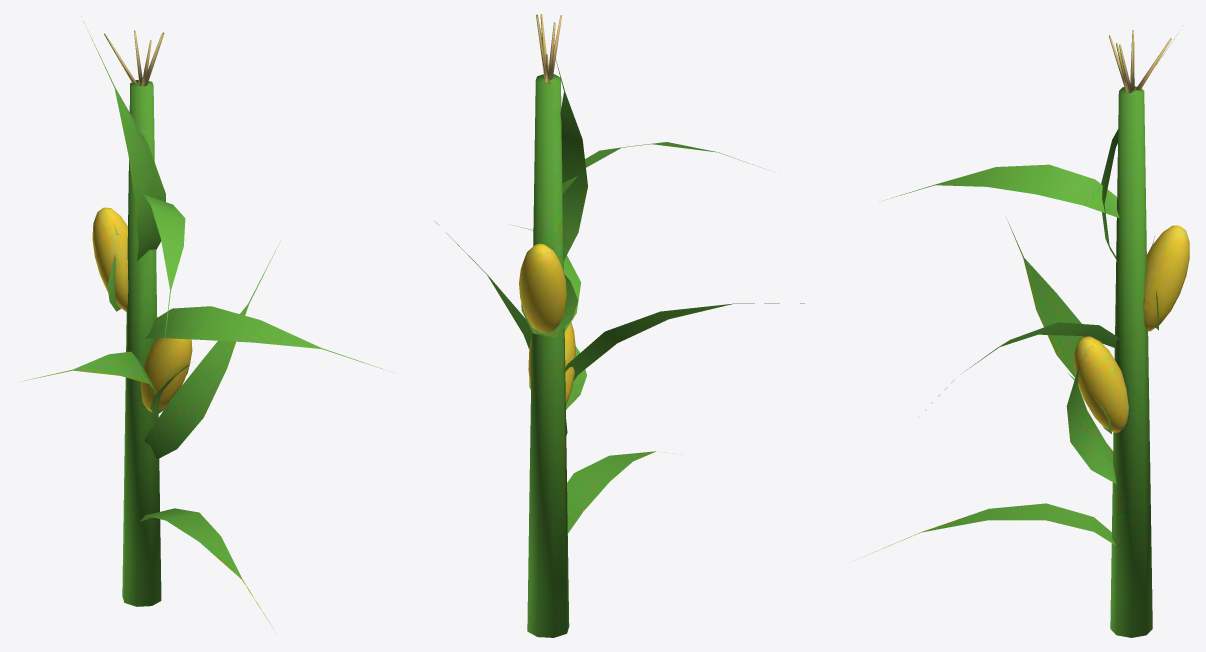
The model's file is crop_corn.glb.
The picture shows the model from 3 angles, left to right: view 1: azimuth 30°, elevation 25°; view 2: azimuth 150°, elevation 25°; view 3: azimuth 270°, elevation 25°; orthographic projection. The views are drawn at different scales.
Parts seen in each view (by area): view 1: crop_corn, fruit; view 2: crop_corn, fruit; view 3: crop_corn, fruit.
Part boxes in pixels (<box>): crop_corn: <box>21,16,383,628</box>; fruit: <box>92,207,192,412</box>; crop_corn: <box>435,14,804,637</box>; fruit: <box>519,243,575,404</box>; crop_corn: <box>862,30,1176,637</box>; fruit: <box>1074,225,1189,432</box>.
Bounding box in the file's own units: 0.3866 × 0.6228 × 0.3279.
1 material, 1 textured.
